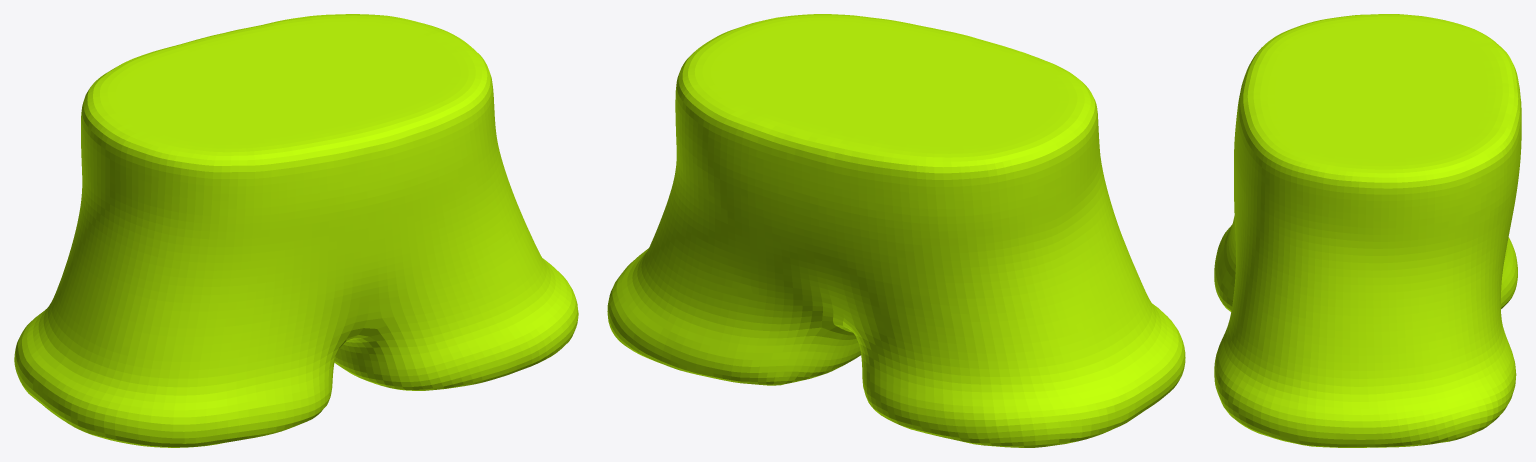
The model's file is PANTS_lime.glb.
The picture shows the model from 3 angles, left to right: view 1: azimuth 30°, elevation 25°; view 2: azimuth 150°, elevation 25°; view 3: azimuth 270°, elevation 25°; orthographic projection. The views are drawn at different scales.
Parts seen in each view (by area): view 1: PANTS.lime; view 2: PANTS.lime; view 3: PANTS.lime.
Boxes of the visible parts, x1,y1,x2,y2 form: PANTS.lime: (14, 14, 578, 447); PANTS.lime: (607, 14, 1185, 447); PANTS.lime: (1214, 14, 1521, 447).
Bounding box in the file's own units: 35.31 × 17.75 × 19.99.
